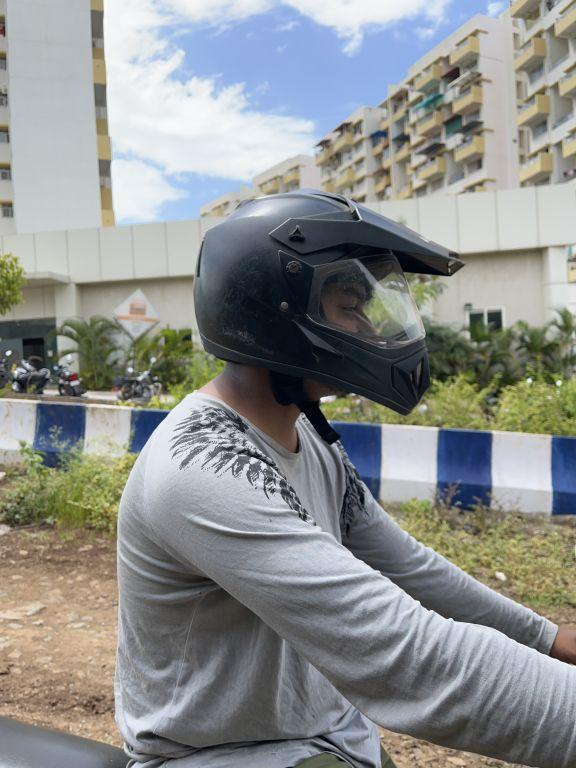helmet: (179, 174, 472, 423)
